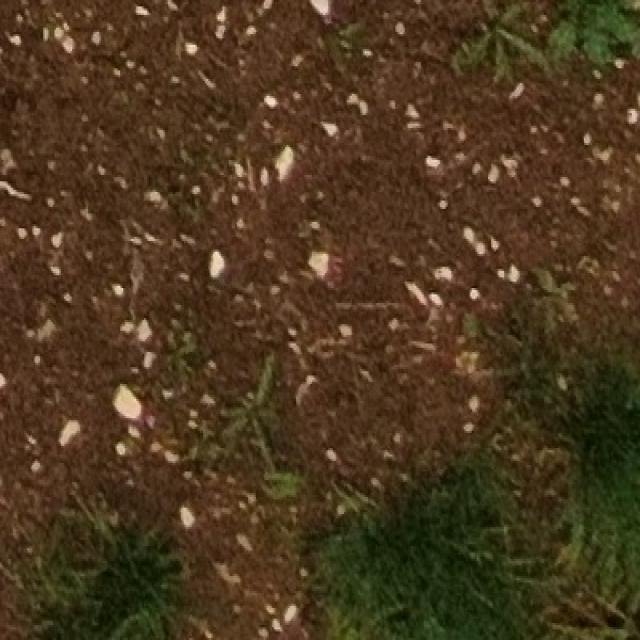cirse: (202, 346, 289, 458), (204, 339, 288, 449), (219, 368, 301, 477), (435, 0, 525, 76), (461, 0, 552, 74), (453, 0, 544, 73)
